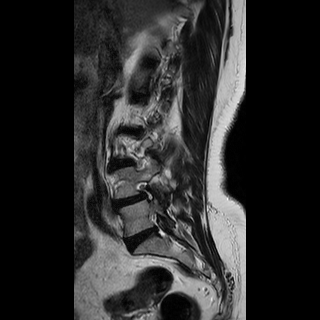RFS2: (130, 173, 159, 211)
